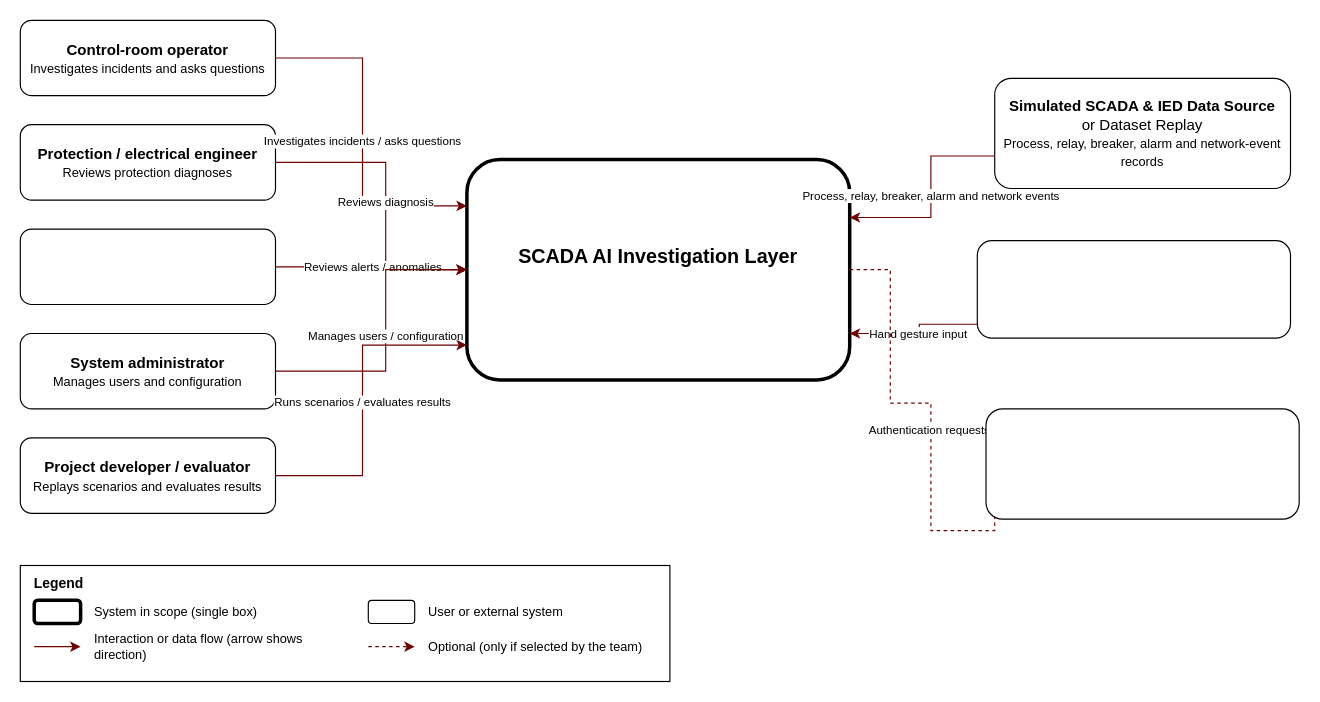
Image size: 1320x702. Some labels were removed from this diagram. The centre of each missing label's shape, as x and y in pixels:
"Camera & Gesture Input Supplies hand gesture input" belongs at point (1133, 289).
"External Identity Provider Only if selected by the team,verify user identity" belongs at point (1142, 463).
"OT / security analyst Reviews anomalies and network alerts" belongs at point (147, 266).
